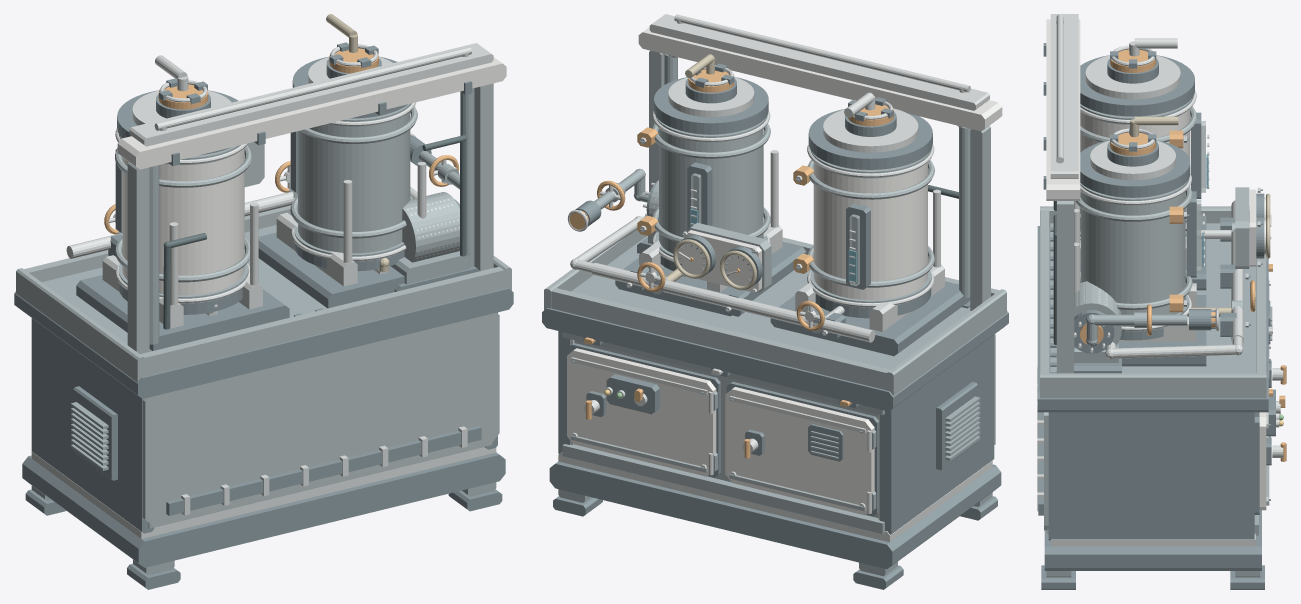
Rendered from nutrient_mixer.glb.
The picture shows the model from 3 angles, left to right: view 1: azimuth 30°, elevation 25°; view 2: azimuth 150°, elevation 25°; view 3: azimuth 270°, elevation 25°; orthographic projection. The views are drawn at different scales.
Parts seen in each view (by area): view 1: Static__gunmetal, Static__graphite, Static__steel, Static__darksteel, Static__cream, Static__bone, Static__rubber, Main_Tank_Cap__ochre; view 2: Static__graphite, Static__gunmetal, Static__steel, Static__cream, Static__darksteel, Service_Door__cream, Static__bone, Static__bronze, Static__ochre, Service_Door__steel, Level_Sight__acrylic, Service_Door__gunmetal; view 3: Static__graphite, Static__gunmetal, Static__steel, Static__darksteel, Static__bone, Static__cream, Static__ochre, Static__bronze, Level_Sight__acrylic, Concentrate_Cap__ochre, Main_Tank_Cap__ochre, Static__rubber (+1 smaller).
Boxes of the visible parts, left/top/right/bottom form: Static__gunmetal: left=16, top=83, right=511, bottom=526; Static__graphite: left=14, top=56, right=513, bottom=589; Static__steel: left=31, top=43, right=496, bottom=538; Static__darksteel: left=31, top=88, right=496, bottom=575; Static__cream: left=122, top=148, right=244, bottom=295; Static__bone: left=117, top=57, right=506, bottom=169; Static__rubber: left=163, top=135, right=466, bottom=329; Main_Tank_Cap__ochre: left=158, top=84, right=208, bottom=109; Static__graphite: left=542, top=77, right=1008, bottom=589; Static__gunmetal: left=544, top=50, right=1006, bottom=517; Static__steel: left=558, top=14, right=992, bottom=542; Static__cream: left=567, top=162, right=927, bottom=476; Static__darksteel: left=558, top=54, right=992, bottom=576; Service_Door__cream: left=725, top=387, right=874, bottom=515; Static__bone: left=638, top=27, right=1002, bottom=291; Static__bronze: left=666, top=54, right=756, bottom=290; Static__ochre: left=583, top=127, right=851, bottom=419; Service_Door__steel: left=729, top=396, right=866, bottom=507; Level_Sight__acrylic: left=691, top=173, right=859, bottom=286; Service_Door__gunmetal: left=729, top=474, right=866, bottom=511; Static__graphite: left=1037, top=43, right=1275, bottom=589; Static__gunmetal: left=1040, top=106, right=1269, bottom=530; Static__steel: left=1037, top=14, right=1283, bottom=546; Static__darksteel: left=1046, top=97, right=1272, bottom=577; Static__bone: left=1046, top=19, right=1256, bottom=266; Static__cream: left=1080, top=109, right=1266, bottom=510; Static__ochre: left=1080, top=130, right=1286, bottom=461; Static__bronze: left=1130, top=116, right=1270, bottom=316; Level_Sight__acrylic: left=1196, top=121, right=1205, bottom=271; Concentrate_Cap__ochre: left=1110, top=132, right=1156, bottom=155; Main_Tank_Cap__ochre: left=1110, top=49, right=1156, bottom=72; Static__rubber: left=1053, top=201, right=1056, bottom=344.
Size of the model in its own units: 1.52 by 1.75 by 0.9175.
